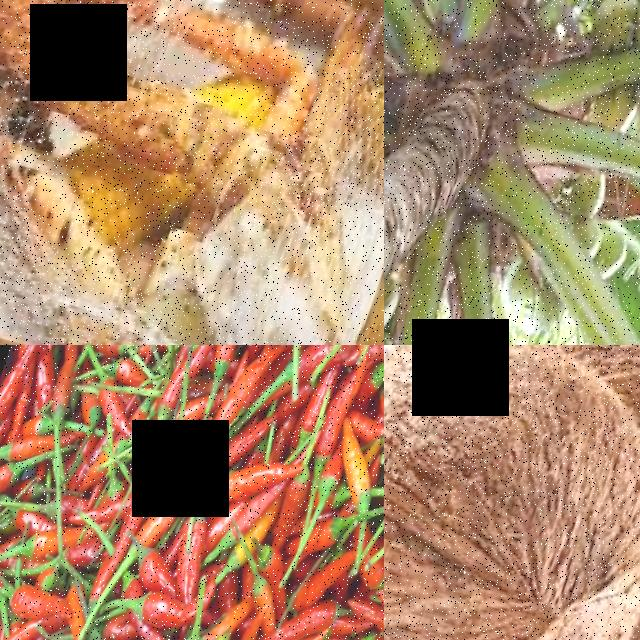chilli: (206, 345, 281, 453), (305, 366, 364, 488), (213, 446, 300, 524), (122, 575, 201, 640), (0, 577, 79, 640), (267, 586, 346, 640), (60, 345, 133, 363)
coconut: (384, 345, 640, 640)
coconuts: (576, 0, 640, 75)
